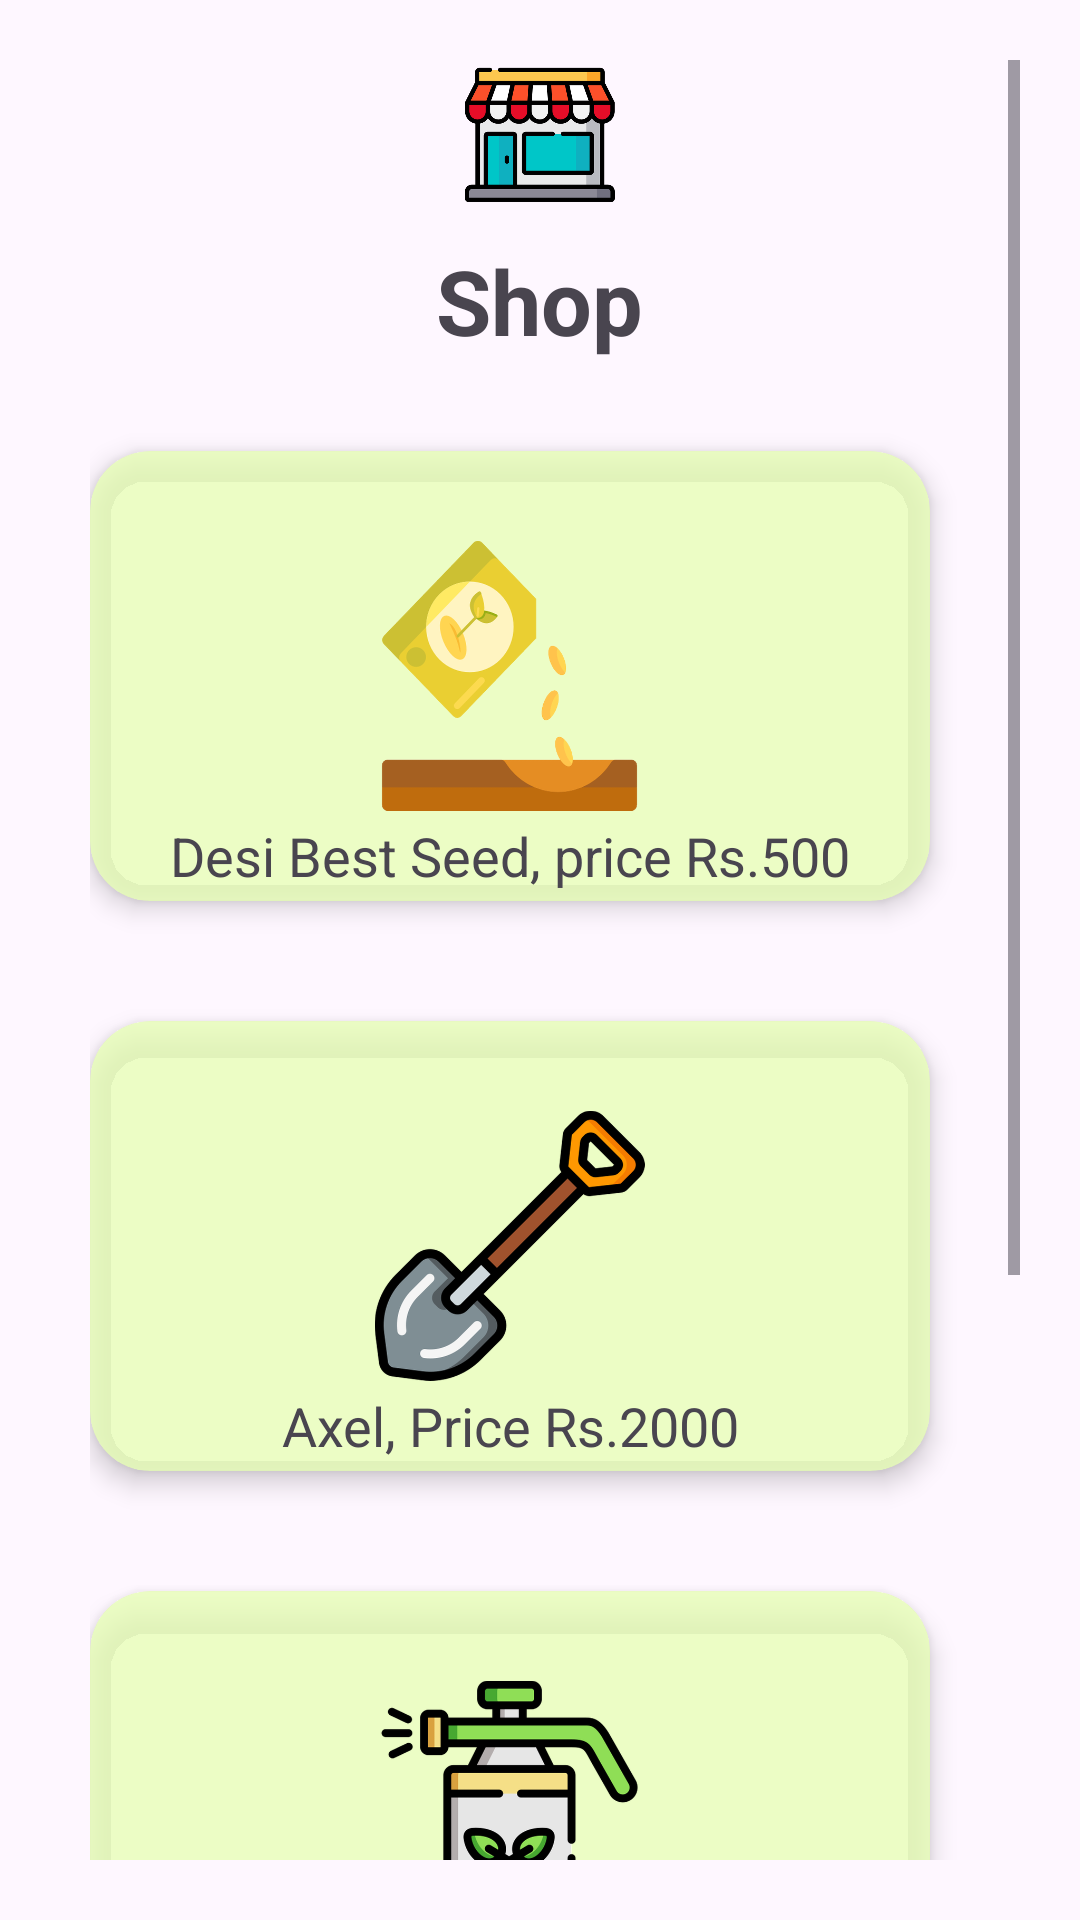

Where to tap for icons on this 1080 × 1920 app screen, as [x,y]:
spade: [510,1246]
store: [540,134]
